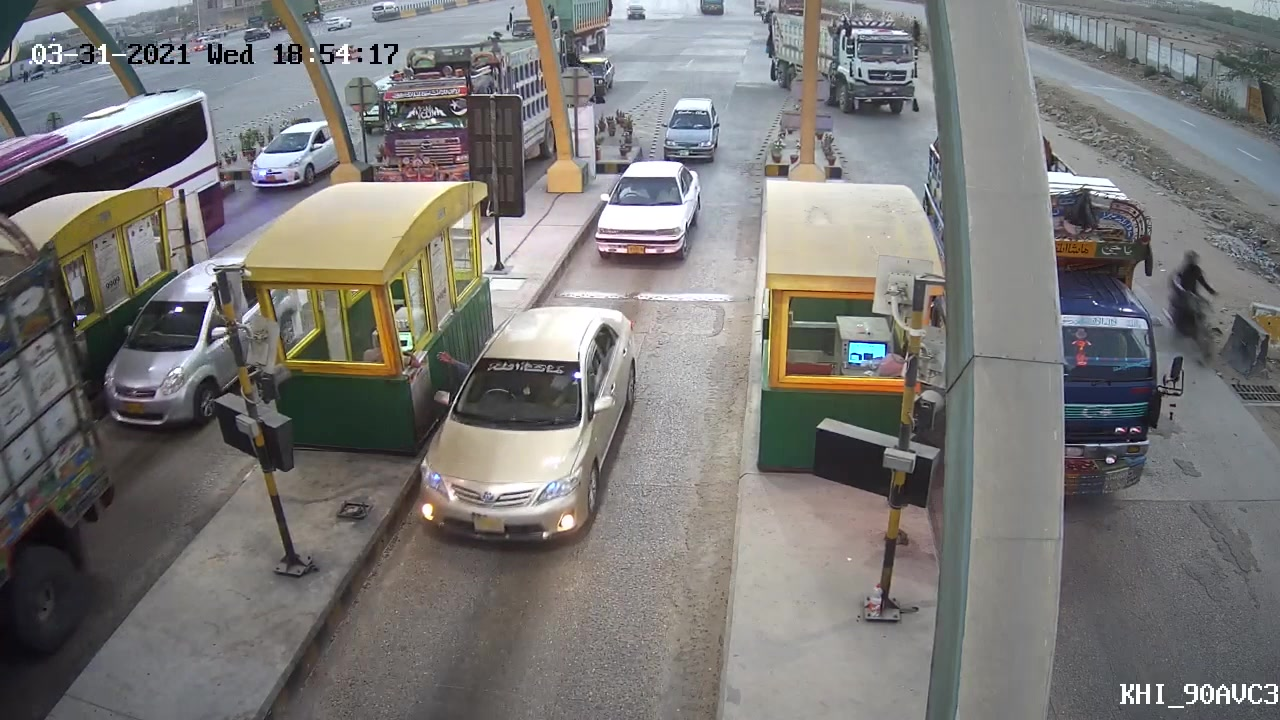F1: (411, 305, 648, 559), (579, 154, 711, 268)
